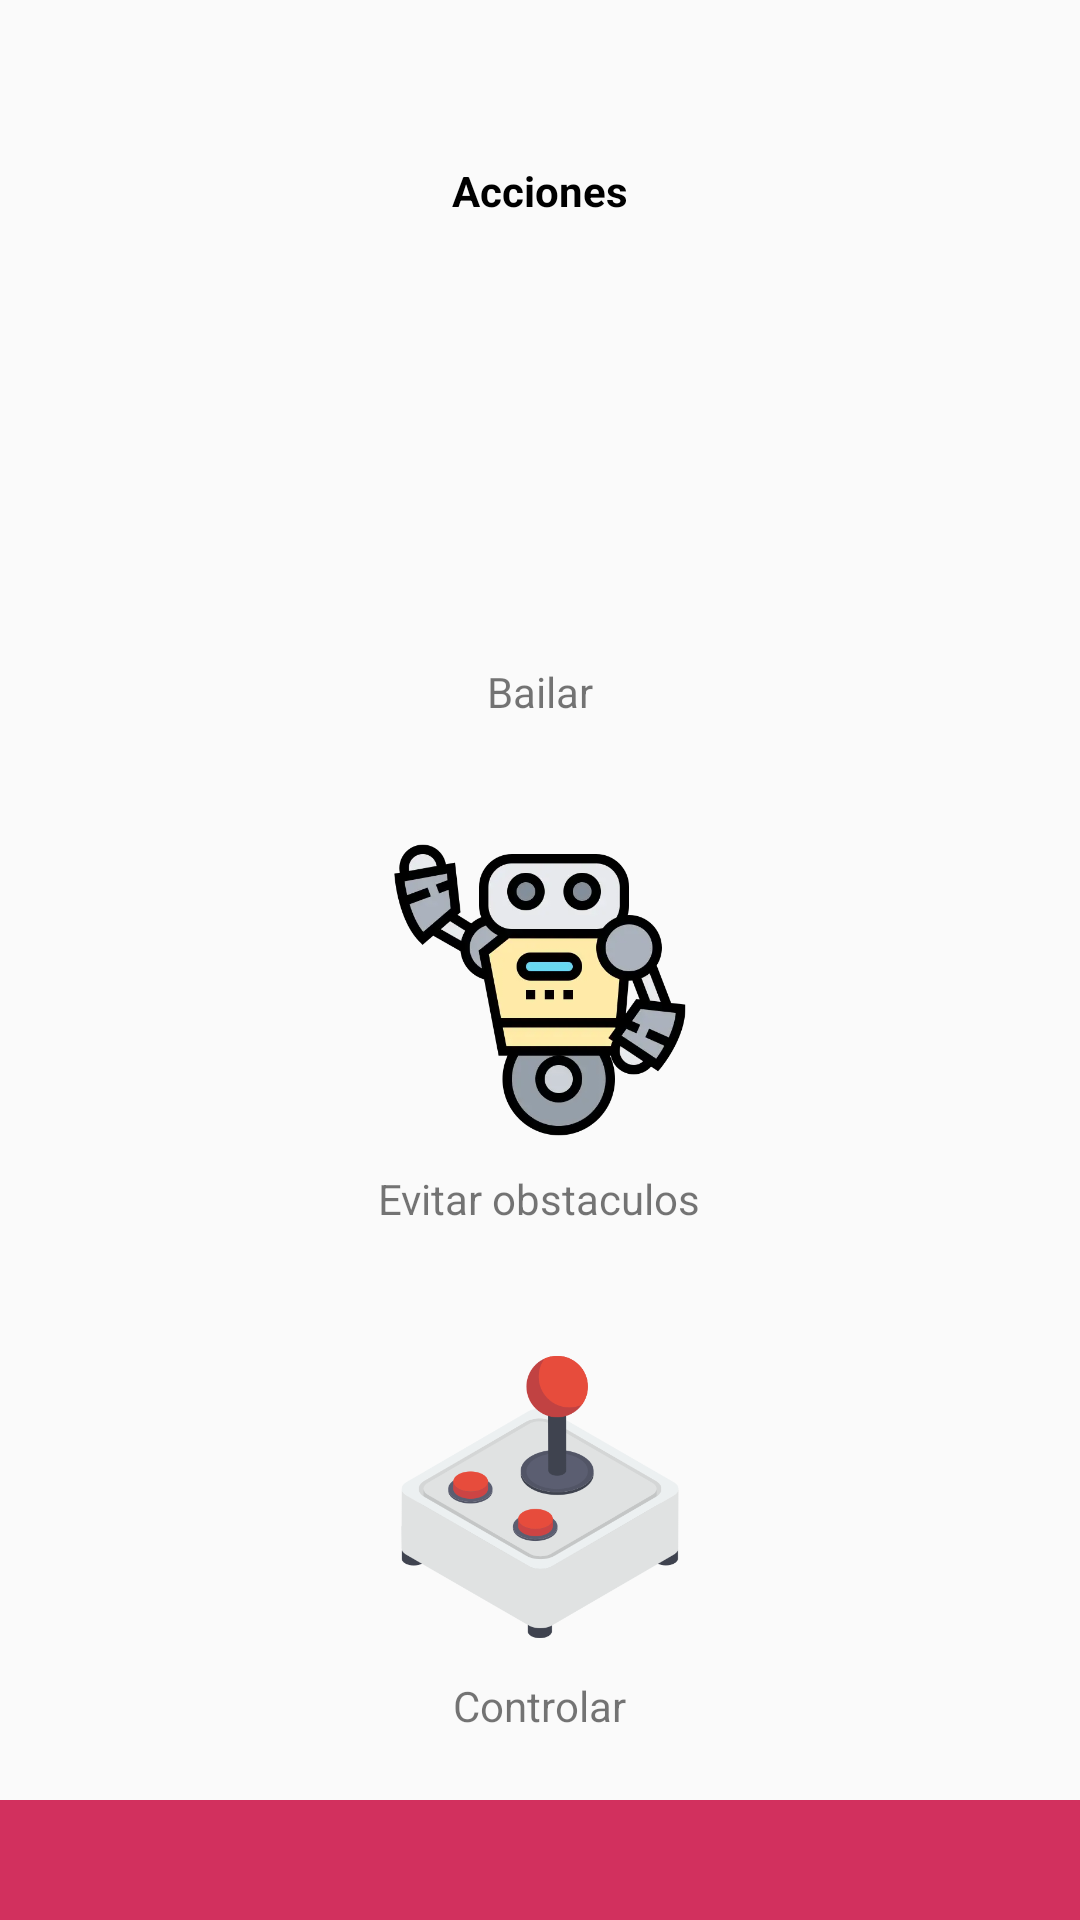

Icon bounding boxes for this 1080w x 1920h phone screenshot, format (x1=x1, y1=y1, x2=x2, y2=y2):
joystick: (x1=402, y1=1356, x2=678, y2=1638)
